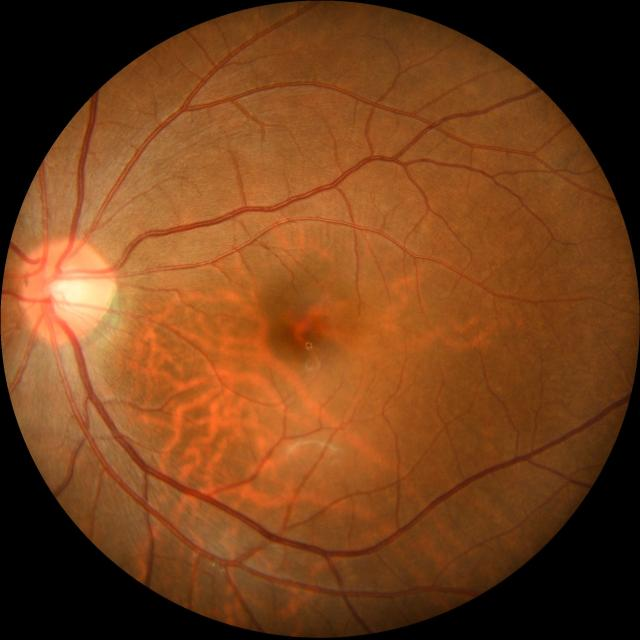OC: (46, 266, 90, 316)
OD: (19, 236, 111, 344)
